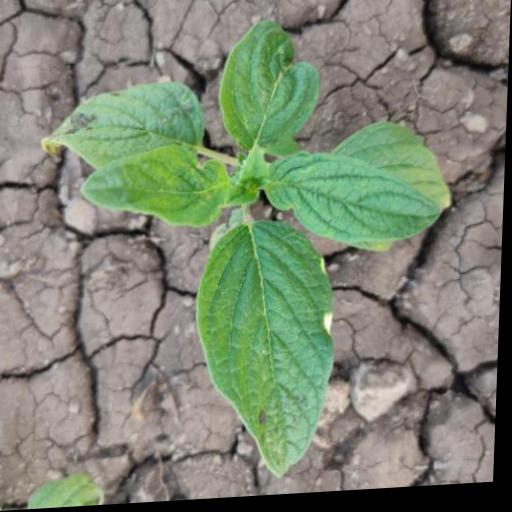crop: (19, 0, 478, 492)
